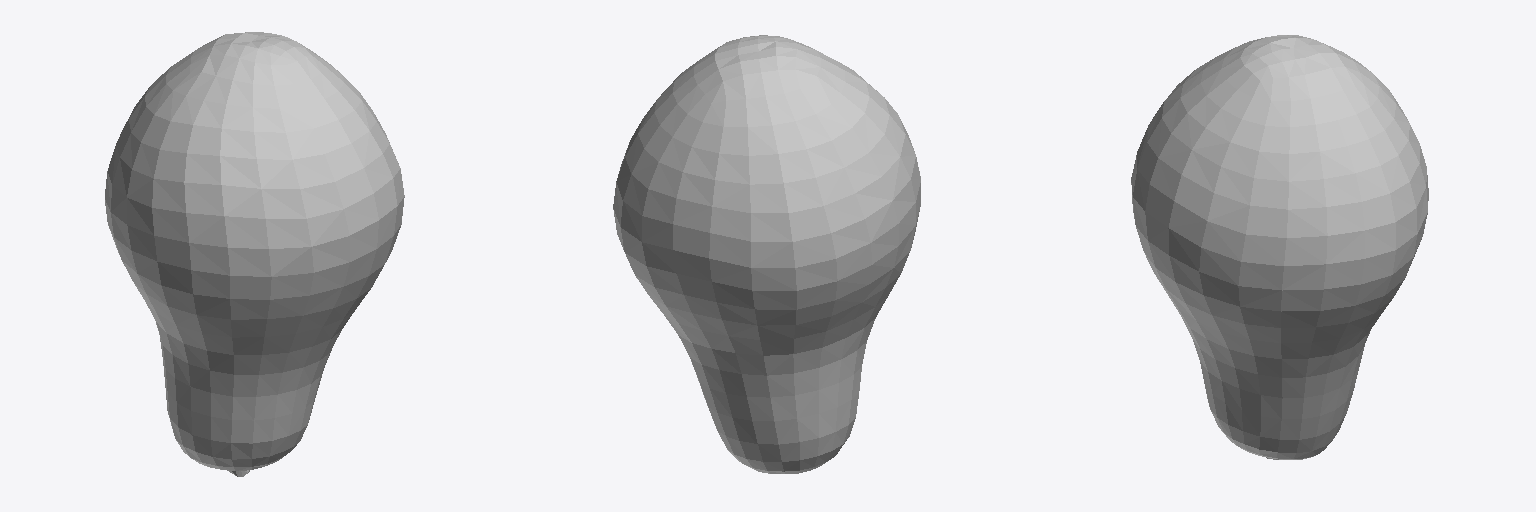
The model's file is collision_vhacd.obj.
3 renders of one model, left to right at view 1: azimuth 30°, elevation 25°; view 2: azimuth 150°, elevation 25°; view 3: azimuth 270°, elevation 25°, orthographic.
Visible parts, largest first — view 1: Retopo_Default; view 2: Retopo_Default; view 3: Retopo_Default.
Part boxes in pixels (x1,y1,x2,y2): Retopo_Default: (105,32,404,476); Retopo_Default: (613,35,920,473); Retopo_Default: (1131,35,1428,459).
Size of the model in its own units: 0.0664 by 0.1039 by 0.066.